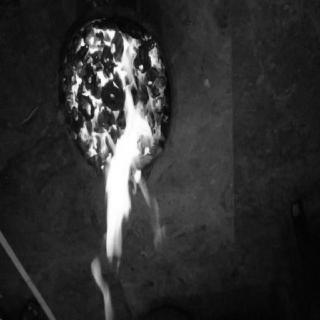Fire: (58, 24, 175, 316)
